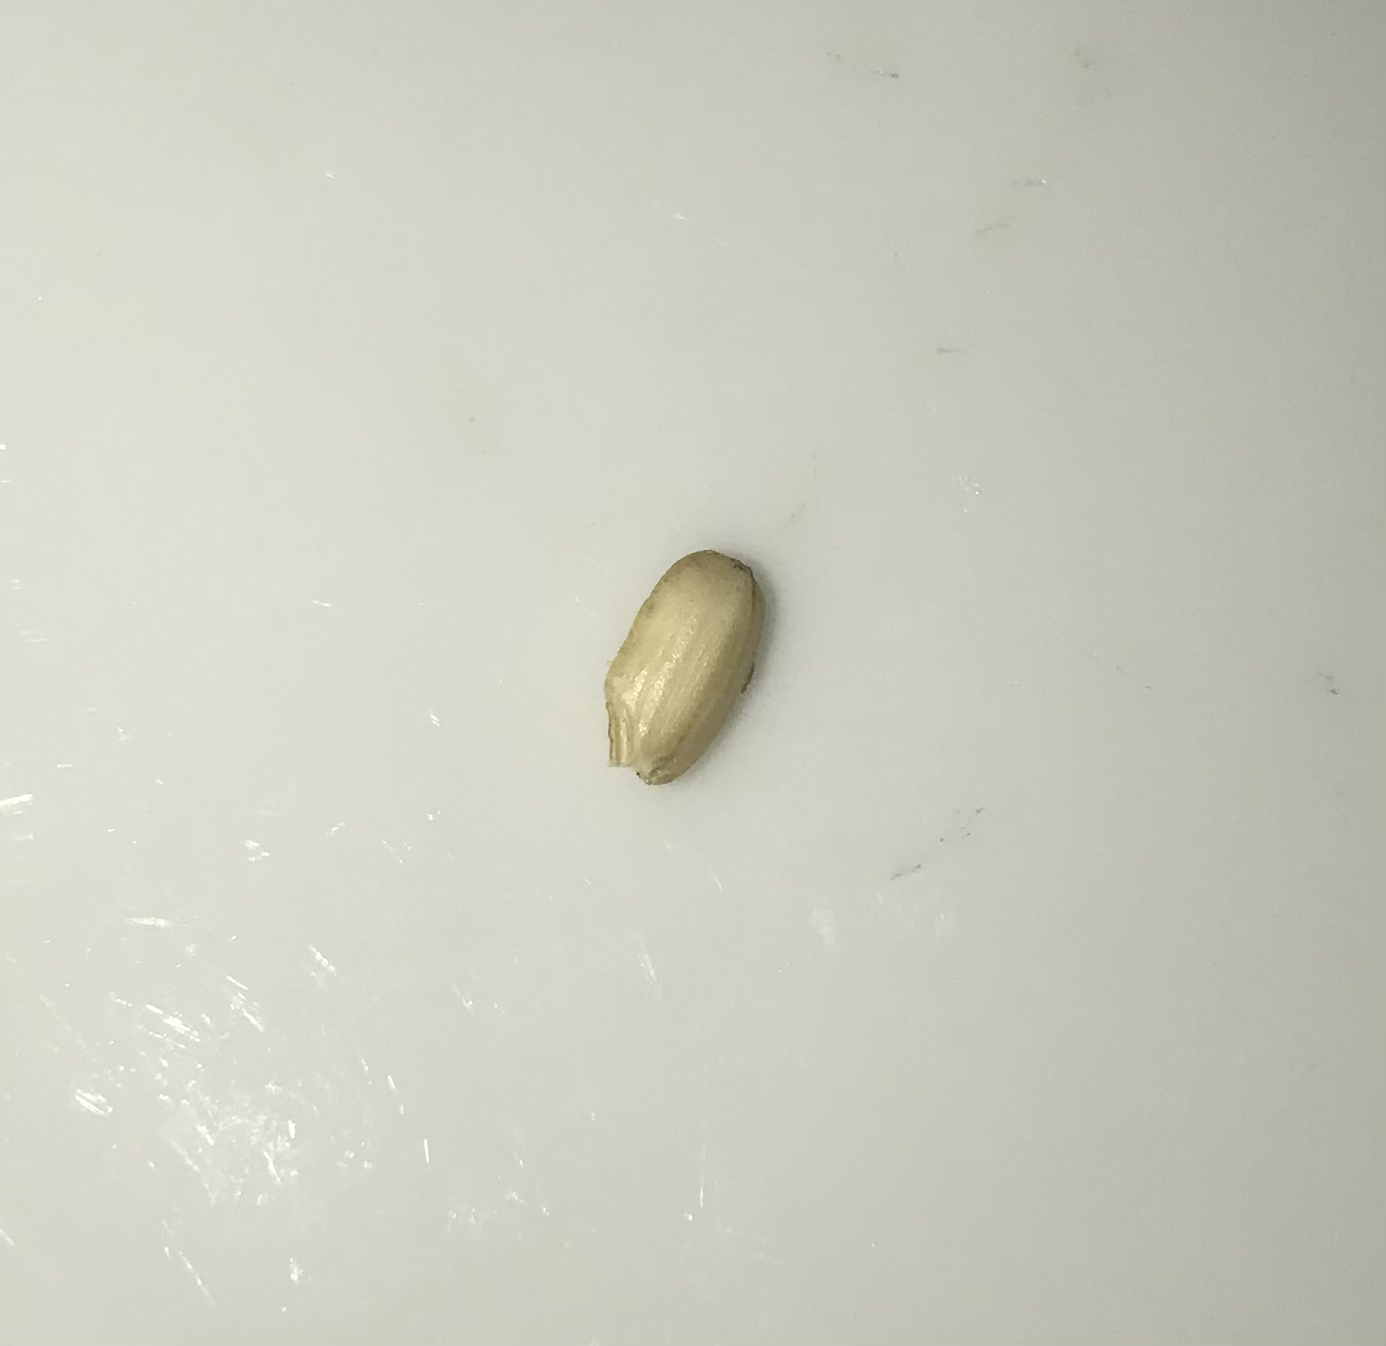Gao Lut Bac: (596, 523, 776, 813)
